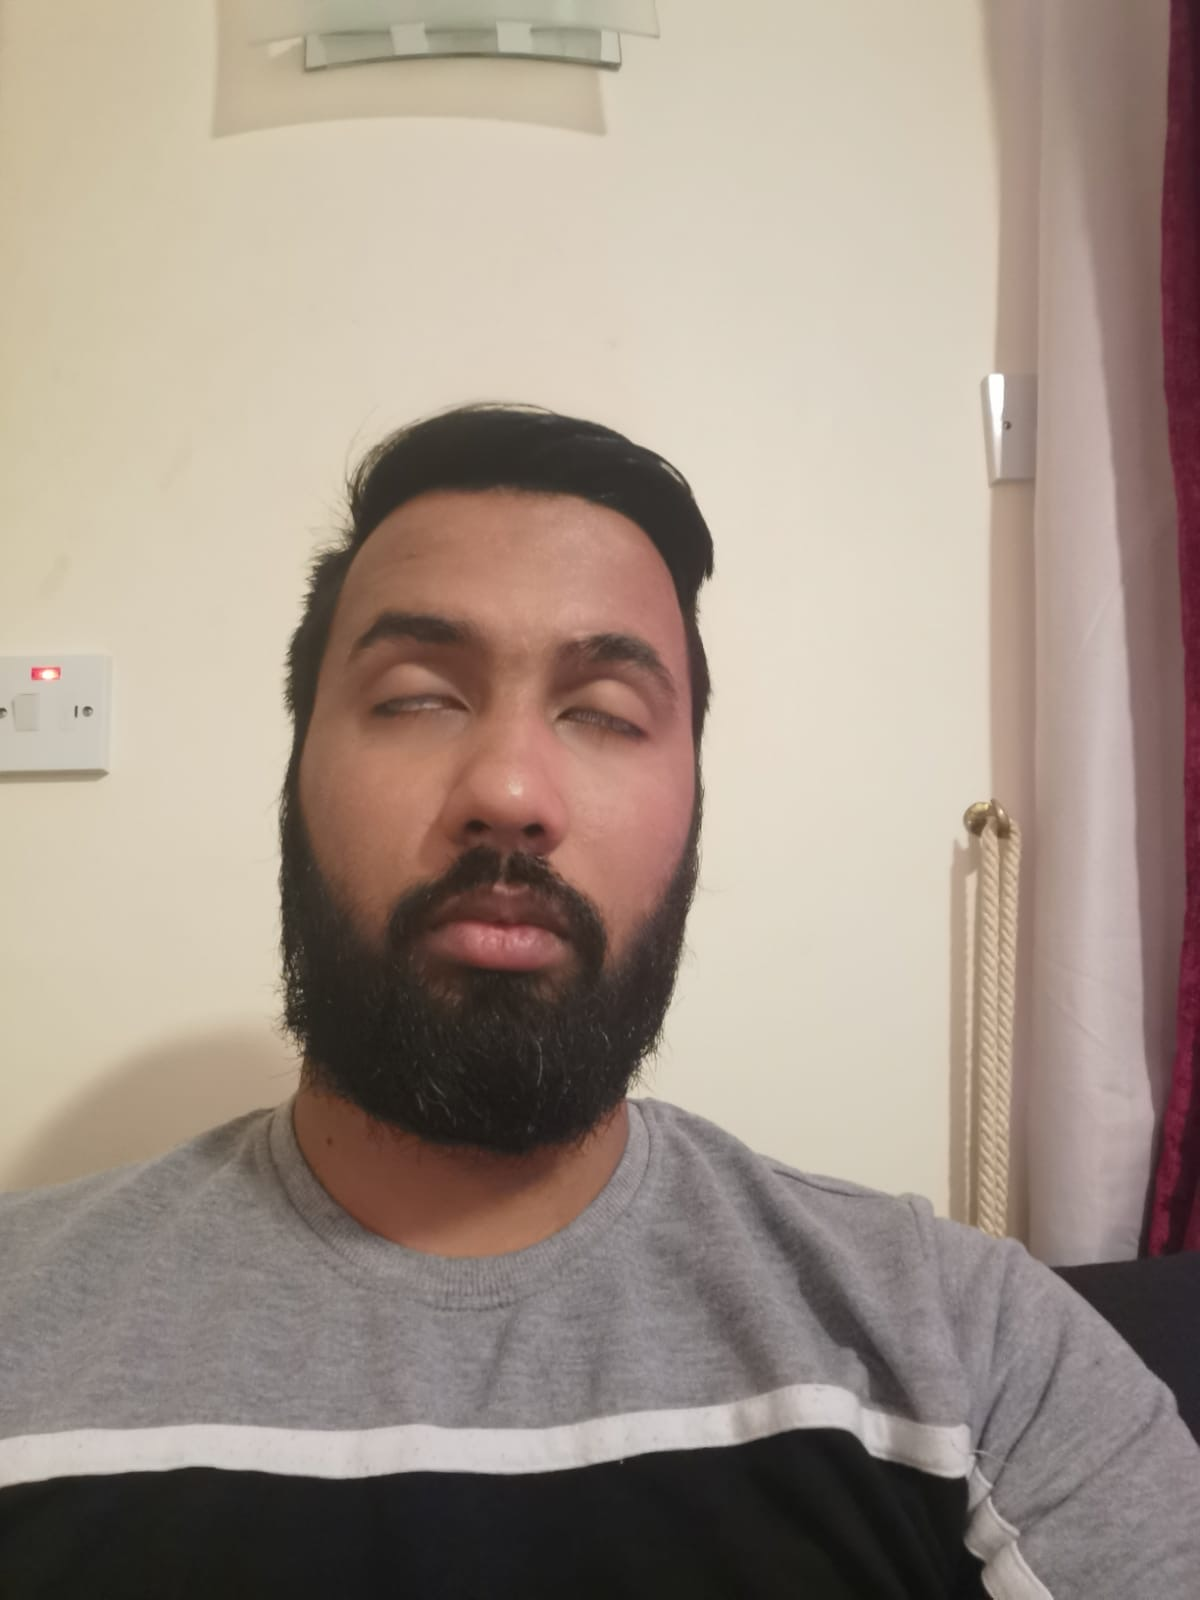Sleeping: (334, 627, 697, 765)
